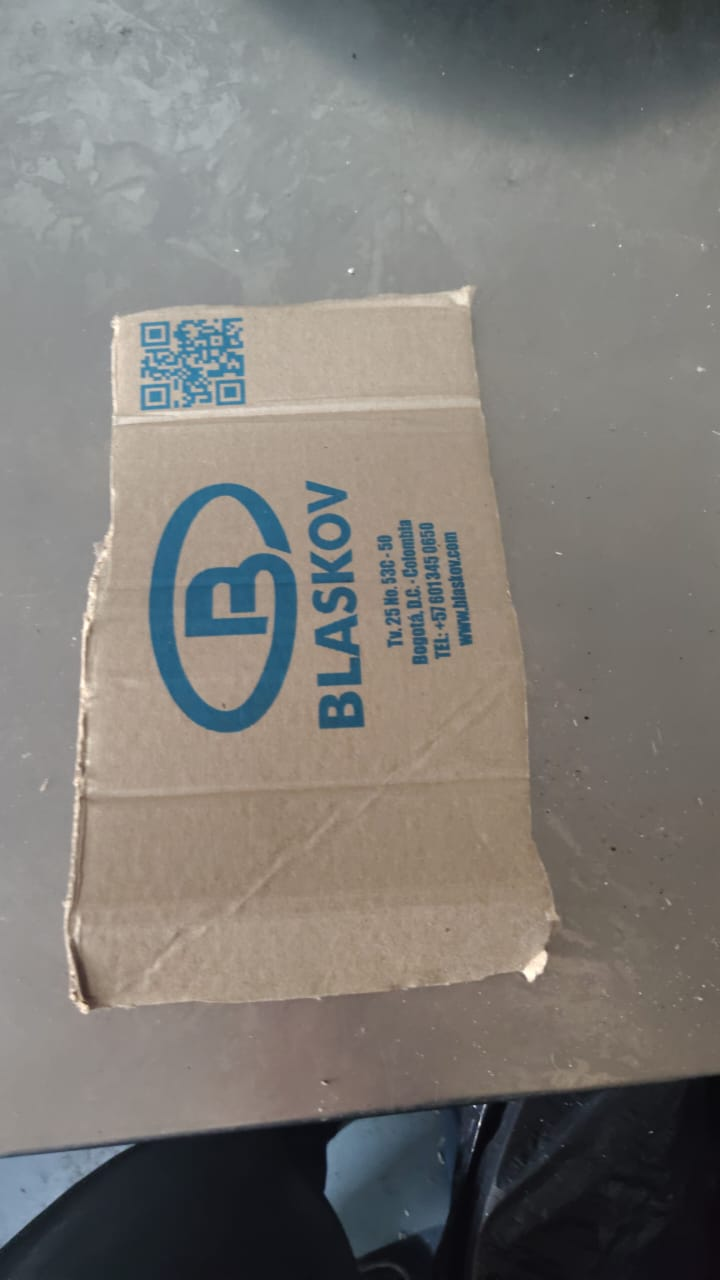Carton: (59, 287, 569, 1012)
